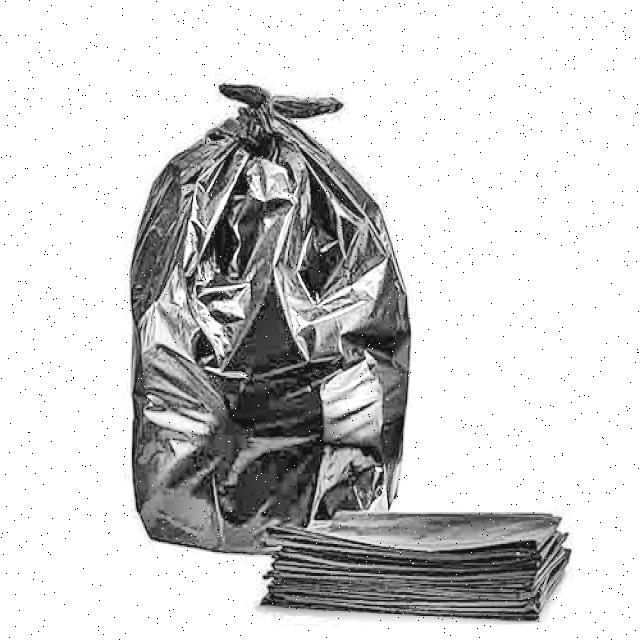Trashbag: (126, 114, 424, 555)
